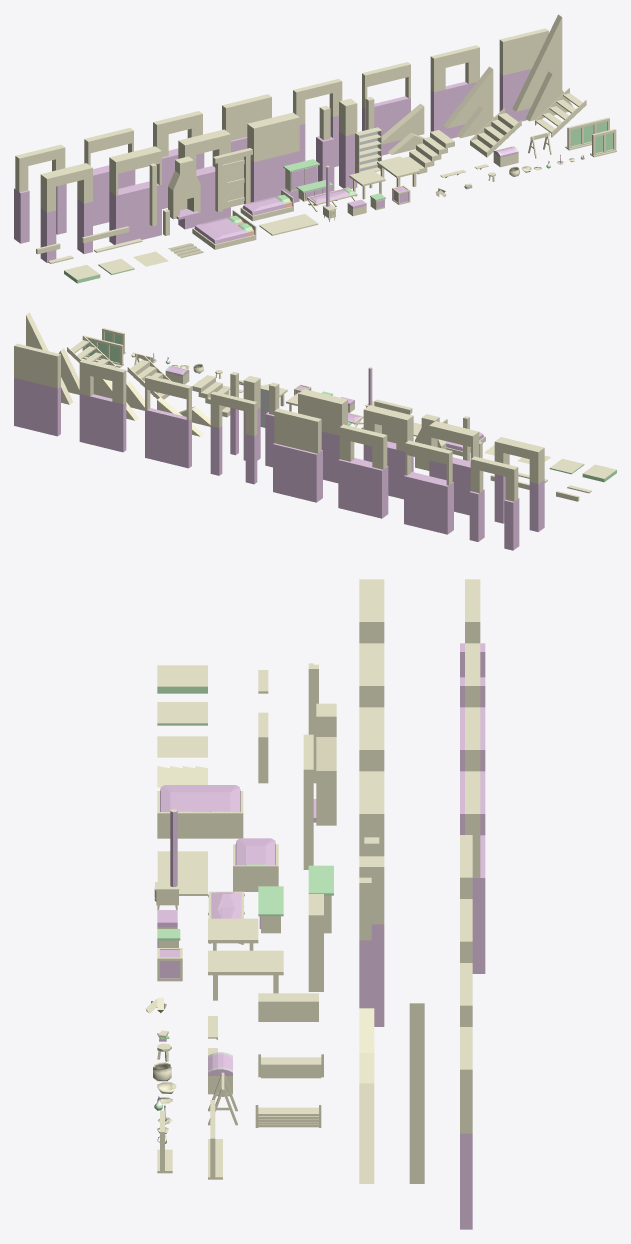
Rendered from fantasy_decorations.glb.
3 views of the same model, one above another, from view 1: azimuth 30°, elevation 25°; view 2: azimuth 150°, elevation 25°; view 3: azimuth 270°, elevation 25° (orthographic). The views are drawn at different scales.
Visible parts, largest first — view 1: Wall A Window Large, Wall A Plain, Wall A Door, Wall C Window Small, Wall C, Wall B Door, Wall A Window Small, Wall B Window Large, Wall C Window Large, Wall Roof 60, Wall B Window Small, Wall C Door (+28 smaller); view 2: Wall B, Wall B Window Small, Wall C, Wall C Window Small, Wall B Window Large, Wall C Window Large, Wall B Door, Wall A Door, Wall C Door, Wall A Window Small, Wall A Plain, Wall A Window Large (+14 smaller); view 3: Bed Double, Wall B, Fireplace, Wall C, Wall Pillar A, Wall Roof 60, Bed Single, Table Large, Wall A Plain, Board, Stairs Block, Wall B Door (+23 smaller).
Part boxes in pixels (x1=…): Wall A Window Large: x1=109, y1=146, x2=161, y2=244; Wall A Plain: x1=247, y1=112, x2=299, y2=202; Wall A Door: x1=40, y1=163, x2=92, y2=262; Wall C Window Small: x1=430, y1=45, x2=479, y2=138; Wall C: x1=499, y1=28, x2=548, y2=121; Wall B Door: x1=14, y1=144, x2=66, y2=243; Wall A Window Small: x1=178, y1=129, x2=230, y2=229; Wall B Window Large: x1=84, y1=128, x2=135, y2=225; Wall C Window Large: x1=362, y1=62, x2=410, y2=155; Wall Roof 60: x1=512, y1=14, x2=562, y2=111; Wall B Window Small: x1=153, y1=111, x2=204, y2=209; Wall C Door: x1=293, y1=79, x2=342, y2=166; Wall B: x1=273, y1=408, x2=322, y2=502; Wall B Window Small: x1=338, y1=424, x2=388, y2=518; Wall C: x1=14, y1=343, x2=60, y2=436; Wall C Window Small: x1=79, y1=359, x2=126, y2=452; Wall B Window Large: x1=404, y1=440, x2=453, y2=534; Wall C Window Large: x1=145, y1=375, x2=191, y2=468; Wall B Door: x1=469, y1=456, x2=519, y2=550; Wall A Door: x1=494, y1=437, x2=544, y2=532; Wall C Door: x1=210, y1=391, x2=257, y2=484; Wall A Window Small: x1=363, y1=405, x2=413, y2=499; Wall A Plain: x1=298, y1=389, x2=347, y2=483; Wall A Window Large: x1=429, y1=421, x2=479, y2=515; Bed Double: x1=157, y1=785, x2=243, y2=838; Wall B: x1=465, y1=771, x2=485, y2=973; Fireplace: x1=313, y1=703, x2=336, y2=825; Wall C: x1=460, y1=1027, x2=472, y2=1229; Wall Pillar A: x1=359, y1=856, x2=384, y2=1026; Wall Roof 60: x1=409, y1=1025, x2=424, y2=1183; Bed Single: x1=233, y1=838, x2=278, y2=891; Table Large: x1=208, y1=950, x2=283, y2=1000; Wall A Plain: x1=359, y1=771, x2=384, y2=856; Board: x1=157, y1=851, x2=207, y2=895; Stairs Block: x1=258, y1=993, x2=318, y2=1021; Wall B Door: x1=460, y1=579, x2=485, y2=707.
Size of the model in its own units: 24 by 4.46 by 6.73.
